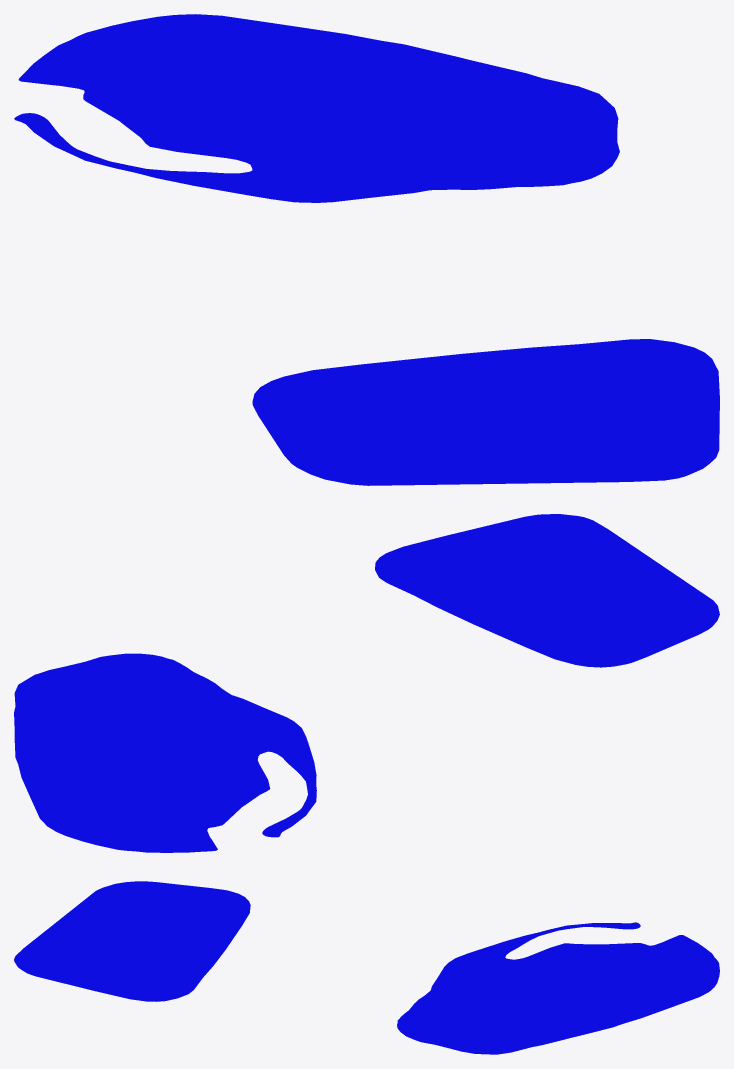
Rendered from MODEL_Environment_water.fbx.
3 renders of one model, top to bottom at view 1: azimuth 30°, elevation 25°; view 2: azimuth 150°, elevation 25°; view 3: azimuth 270°, elevation 25°, orthographic. The views are drawn at different scales.
Visible parts, largest first — view 1: Water; view 2: Water; view 3: Water.
Part boxes in pixels (<box>): Water: <box>14,14,719,485</box>; Water: <box>14,514,719,852</box>; Water: <box>14,881,719,1054</box>.
Bounding box in the file's own units: 327 × 1.29e-05 × 563.
